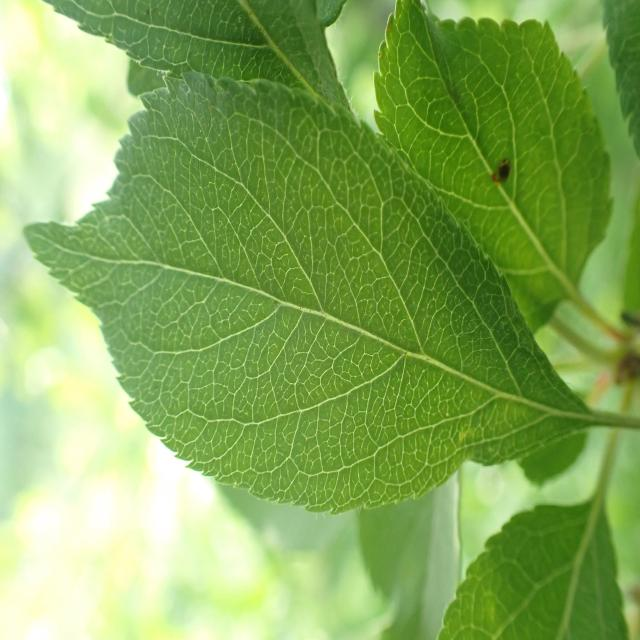healthy: (23, 0, 597, 515), (372, 0, 613, 335), (437, 499, 632, 640)
